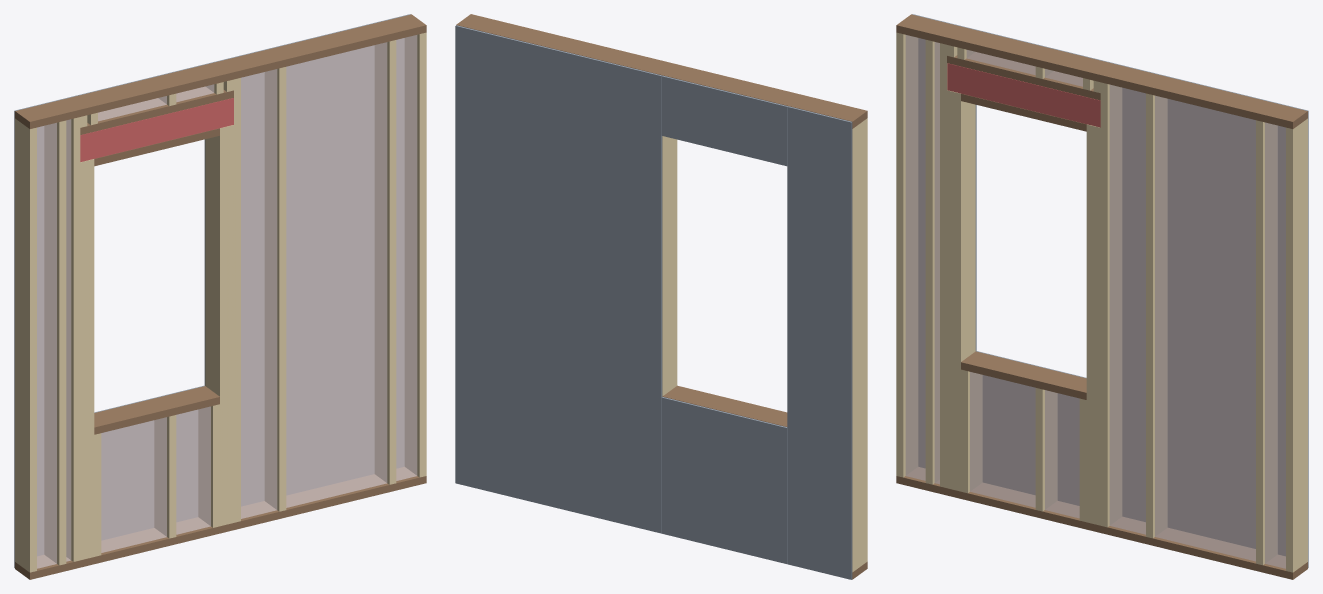
3 renders of one model, left to right at view 1: azimuth 30°, elevation 25°; view 2: azimuth 150°, elevation 25°; view 3: azimuth 330°, elevation 25°, orthographic.
Parts seen in each view (by area): view 1: EX16 GF; view 2: EX16 GF; view 3: EX16 GF.
Boxes of the visible parts, x1=… form: EX16 GF: x1=14, y1=14, x2=426, y2=579; EX16 GF: x1=455, y1=14, x2=867, y2=579; EX16 GF: x1=896, y1=14, x2=1308, y2=579.
Bounding box in the file's own units: 2.16 × 2.39 × 0.149.
